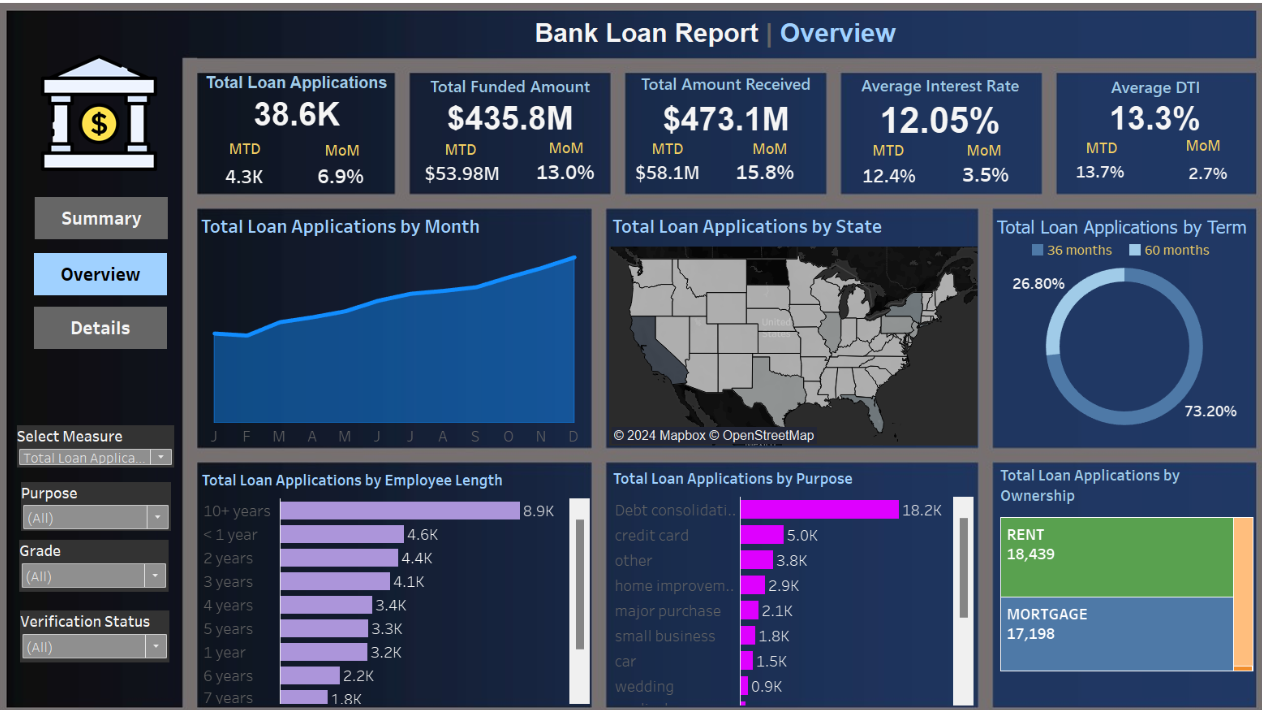

Layout of this report page (visuals, bound fields, positions):
{"tool":"tableau","page":{"name":"Overview","canvas":[1600,900],"ordinal":1},"visuals":[{"type":"image","param":"Image/Tableau Background 2.jpg","box":[8,8,1584,884]},{"type":"text","box":[642,30,521,39]},{"type":"image","param":"Image/bank_4770298.png","box":[58,69,170,156]},{"type":"worksheet","title":"Total Amount Received","mark":"Automatic","box":[790,93,252,82]},{"type":"worksheet","title":"Total Loan Applications","mark":"Automatic","box":[266,95,241,70]},{"type":"worksheet","title":"Average Interest Rate","mark":"Automatic","box":[1055,95,250,81]},{"type":"worksheet","title":"Total Funded Amount","mark":"Automatic","box":[527,96,246,73]},{"type":"worksheet","title":"Average DTI","mark":"Automatic","box":[1325,97,241,72]},{"type":"text","box":[1454,172,100,30]},{"type":"text","box":[669,175,100,30]},{"type":"text","box":[1329,175,100,30]},{"type":"text","box":[273,176,100,30]},{"type":"text","box":[794,176,100,30]},{"type":"text","box":[920,176,100,30]},{"type":"text","box":[539,177,100,30]},{"type":"text","box":[393,178,100,30]},{"type":"text","box":[1066,178,100,30]},{"type":"text","box":[1184,178,100,30]},{"type":"worksheet","title":"MoM Total Funded Amount","mark":"Automatic","box":[675,198,86,42]},{"type":"worksheet","title":"MTD Total Amount Received","mark":"Automatic","box":[799,200,90,39]},{"type":"worksheet","title":"MoM Total Amount Received","mark":"Automatic","box":[921,200,85,37]},{"type":"worksheet","title":"MTD Average DTI","mark":"Automatic","box":[1327,200,100,37]},{"type":"worksheet","title":"MoM Average DTI","mark":"Automatic","box":[1465,200,90,41]},{"type":"worksheet","title":"MTD Total Funded Amount","mark":"Automatic","box":[540,201,101,39]},{"type":"worksheet","title":"MoM Average Interest Rate","mark":"Automatic","box":[1194,205,83,33]},{"type":"worksheet","title":"MTD Average Interest Rate","mark":"Automatic","box":[1077,207,80,33]},{"type":"worksheet","title":"MTD Loan Applications","mark":"Automatic","box":[278,208,87,33]},{"type":"worksheet","title":"MoM Loan Applications","mark":"Automatic","box":[399,208,84,31]},{"type":"dashboard-object","box":[64,251,164,52]},{"type":"worksheet","title":"Month","mark":"Area","rows":["Calculation_882142607008587782","Calculation_882142607008587782"],"cols":["issue_date"],"box":[265,267,484,291]},{"type":"worksheet","title":"State","mark":"Multipolygon","box":[772,267,454,290]},{"type":"worksheet","title":"Term","mark":"Pie","rows":["Calculation_363384225207369729","Calculation_363384225207369729"],"box":[1246,270,322,288]},{"type":"legend","title":"Term","param":"[federated.1mfxow81dj9rb515gv0x40jgt81q].[none:term:nk]","box":[1289,305,264,35]},{"type":"dashboard-object","box":[63,320,164,52]},{"type":"dashboard-object","box":[63,386,164,52]},{"type":"parameter","param":"[Parameters].[Parameter 1]","box":[42,532,194,52]},{"type":"worksheet","title":"Home Ownership","mark":"Automatic","box":[1250,576,319,300]},{"type":"worksheet","title":"Purpose","mark":"Automatic","rows":["purpose"],"cols":["Calculation_882142607008587782"],"box":[773,580,448,297]},{"type":"worksheet","title":"Employee Length","mark":"Automatic","rows":["emp_length"],"cols":["Calculation_882142607008587782"],"box":[266,582,482,293]},{"type":"filter","title":"Average DTI","param":"[federated.1mfxow81dj9rb515gv0x40jgt81q].[none:purpose:nk]","box":[47,602,185,60]},{"type":"filter","title":"Average DTI","param":"[federated.1mfxow81dj9rb515gv0x40jgt81q].[none:grade:nk]","box":[45,673,184,64]},{"type":"filter","title":"Average DTI","param":"[federated.1mfxow81dj9rb515gv0x40jgt81q].[none:verification_status:nk]","box":[46,760,184,64]}]}

Visuals, with their boxes in screenshot pixels (x1, y1, x2, y2), scaled from the page's 1600x900 canvas onto the 1262x710 screenshot:
image: detection(6, 6, 1256, 704)
text: detection(506, 24, 917, 54)
image: detection(46, 54, 180, 178)
"Total Amount Received" worksheet: detection(623, 73, 822, 138)
"Total Loan Applications" worksheet: detection(210, 75, 400, 130)
"Average Interest Rate" worksheet: detection(832, 75, 1029, 139)
"Total Funded Amount" worksheet: detection(416, 76, 610, 133)
"Average DTI" worksheet: detection(1045, 77, 1235, 133)
text: detection(1147, 136, 1226, 159)
text: detection(528, 138, 607, 162)
text: detection(1048, 138, 1127, 162)
text: detection(215, 139, 294, 163)
text: detection(626, 139, 705, 163)
text: detection(726, 139, 805, 163)
text: detection(425, 140, 504, 163)
text: detection(310, 140, 389, 164)
text: detection(841, 140, 920, 164)
text: detection(934, 140, 1013, 164)
"MoM Total Funded Amount" worksheet: detection(532, 156, 600, 189)
"MTD Total Amount Received" worksheet: detection(630, 158, 701, 189)
"MoM Total Amount Received" worksheet: detection(726, 158, 793, 187)
"MTD Average DTI" worksheet: detection(1047, 158, 1126, 187)
"MoM Average DTI" worksheet: detection(1156, 158, 1227, 190)
"MTD Total Funded Amount" worksheet: detection(426, 159, 506, 189)
"MoM Average Interest Rate" worksheet: detection(942, 162, 1007, 188)
"MTD Average Interest Rate" worksheet: detection(849, 163, 913, 189)
"MTD Loan Applications" worksheet: detection(219, 164, 288, 190)
"MoM Loan Applications" worksheet: detection(315, 164, 381, 189)
dashboard-object: detection(50, 198, 180, 239)
"Month" worksheet (Area marks): detection(209, 211, 591, 440)
"State" worksheet (Multipolygon marks): detection(609, 211, 967, 439)
"Term" worksheet (Pie marks): detection(983, 213, 1237, 440)
"Term" legend: detection(1017, 241, 1225, 268)
dashboard-object: detection(50, 252, 179, 293)
dashboard-object: detection(50, 305, 179, 346)
parameter: detection(33, 420, 186, 461)
"Home Ownership" worksheet: detection(986, 454, 1238, 691)
"Purpose" worksheet: detection(610, 458, 963, 692)
"Employee Length" worksheet: detection(210, 459, 590, 690)
"Average DTI" filter: detection(37, 475, 183, 522)
"Average DTI" filter: detection(35, 531, 181, 581)
"Average DTI" filter: detection(36, 600, 181, 650)
